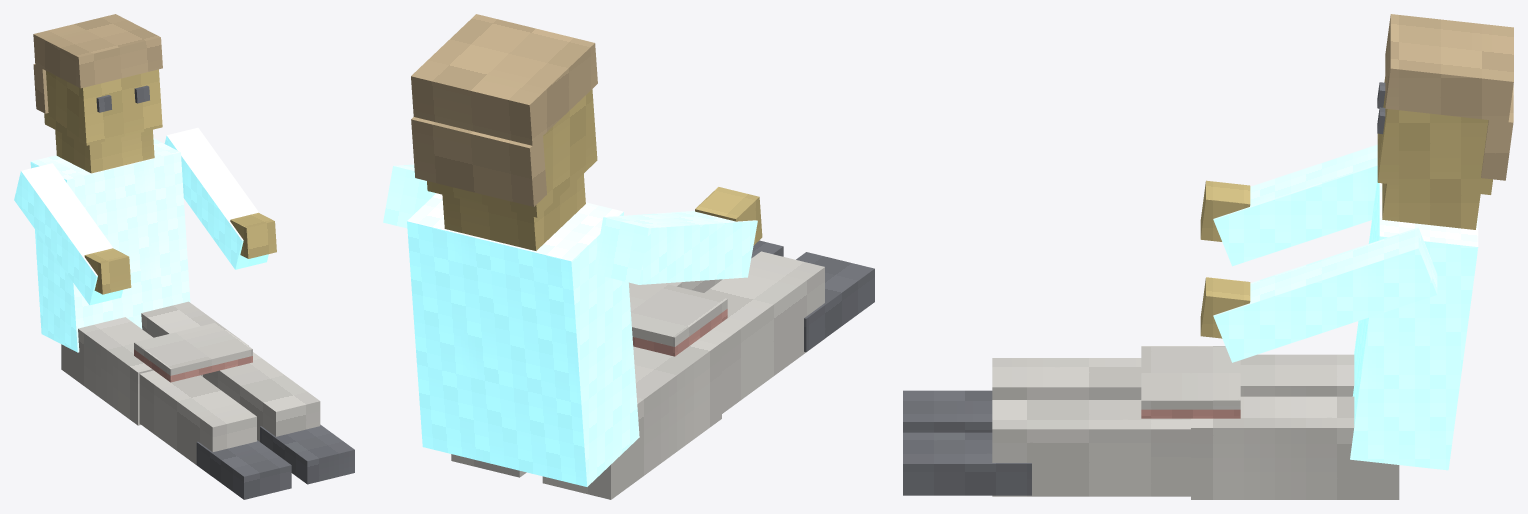
File: pixel-modern-apartments-resident-reading-in-bed-c54b6ea0__29879.glb
3 renders of one model, left to right at view 1: azimuth 30°, elevation 25°; view 2: azimuth 150°, elevation 25°; view 3: azimuth 270°, elevation 25°, orthographic. The views are drawn at different scales.
Parts seen in each view (by area): view 1: resident-reading-in-bed; view 2: resident-reading-in-bed; view 3: resident-reading-in-bed.
Part boxes in pixels (x1,y1,x2,y2): resident-reading-in-bed: [14, 14, 354, 499]; resident-reading-in-bed: [383, 14, 874, 499]; resident-reading-in-bed: [903, 14, 1513, 499].
Bounding box in the file's own units: 0.56 × 0.9383 × 1.23.
6 materials, 6 textured.
